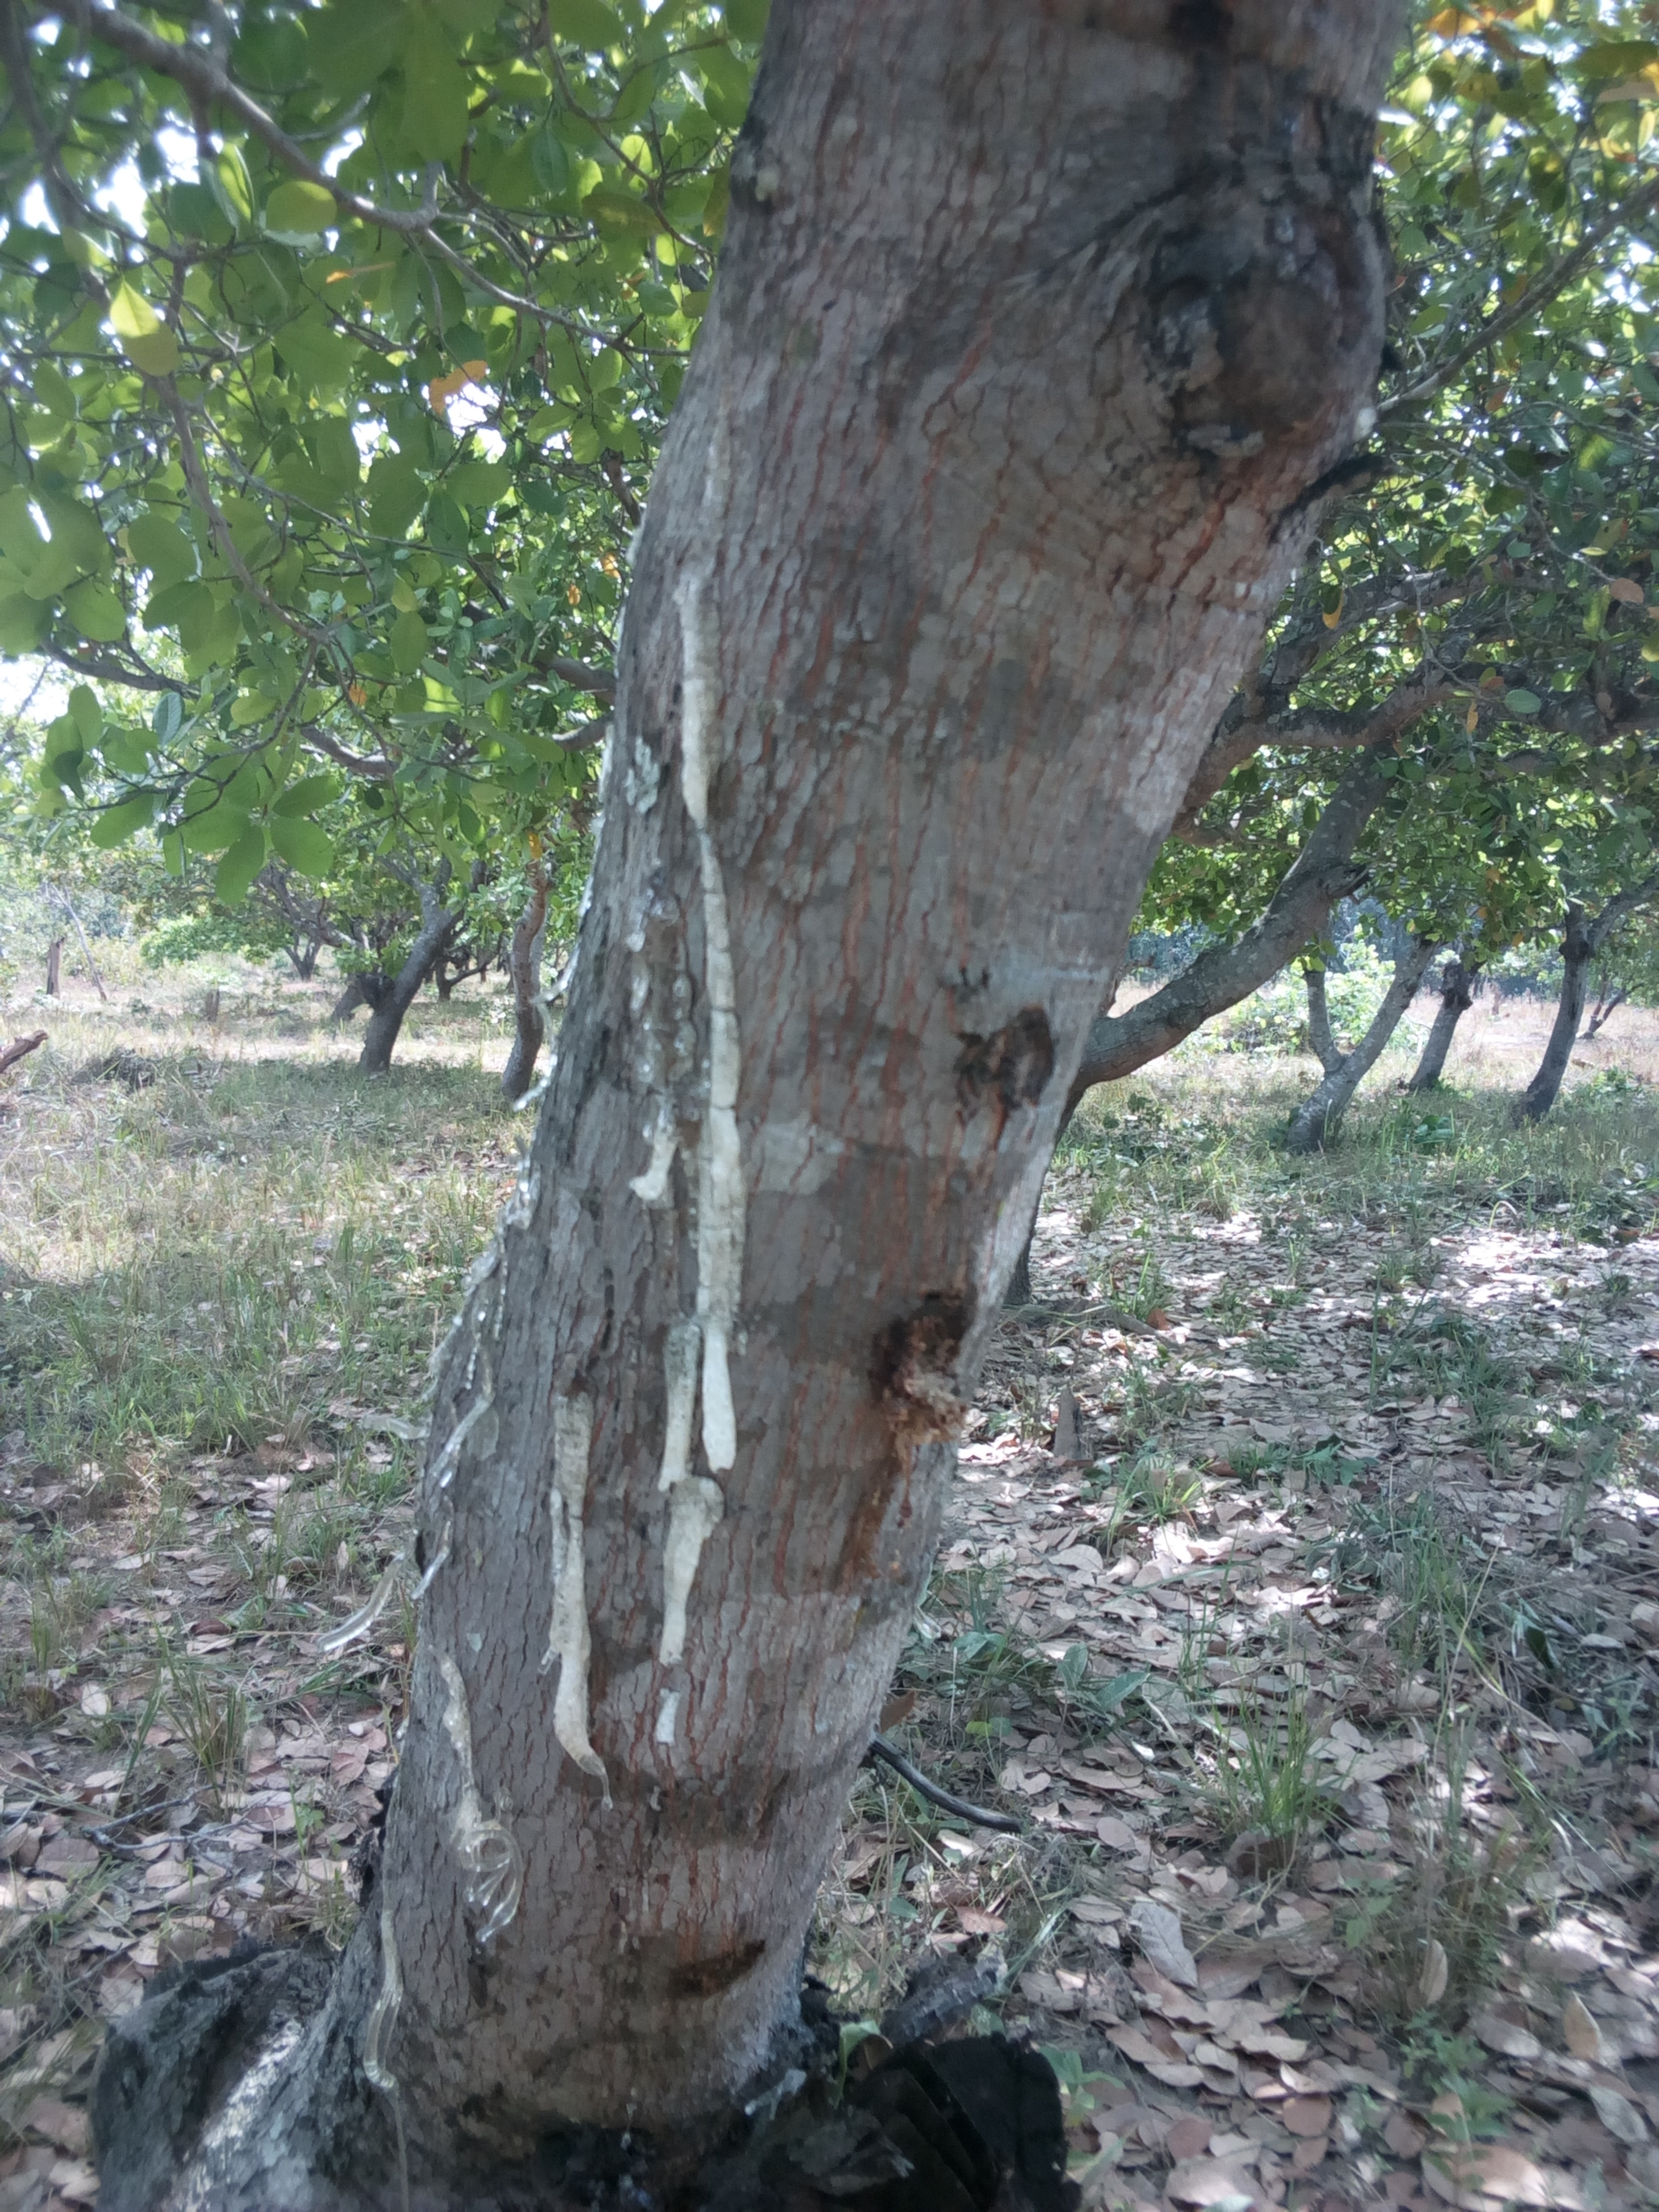Apate terebrans: (324, 547, 1185, 1973)
